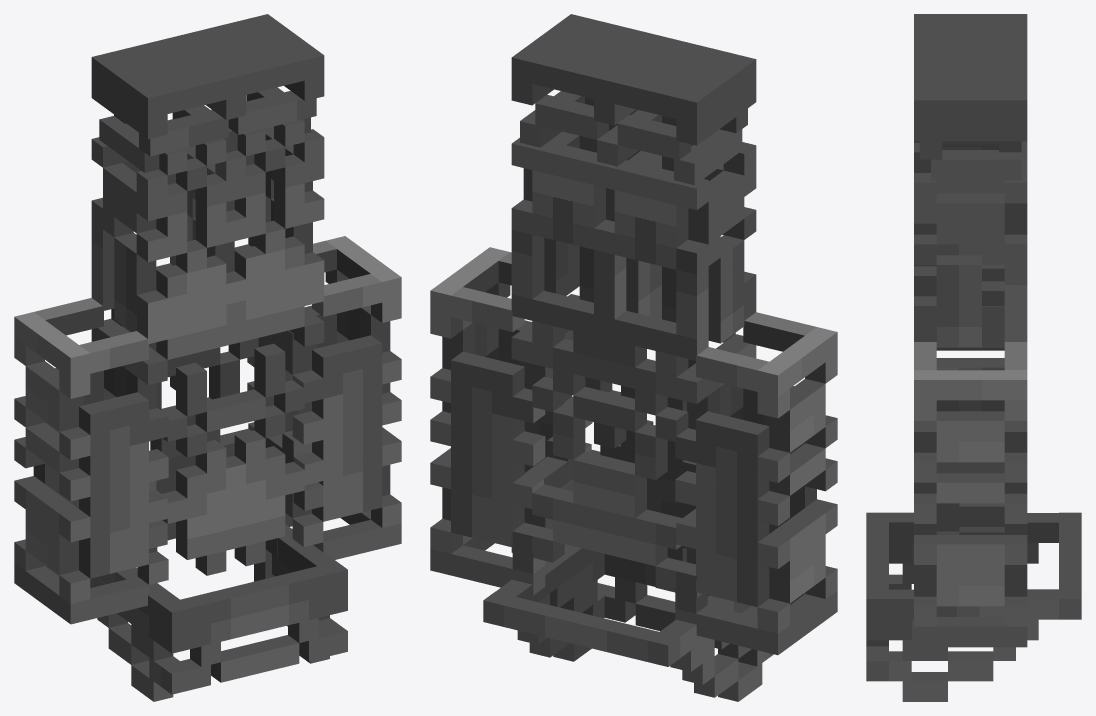
The model's file is exo_armor.obj.
3 renders of one model, left to right at view 1: azimuth 30°, elevation 25°; view 2: azimuth 150°, elevation 25°; view 3: azimuth 270°, elevation 25°, orthographic. The views are drawn at different scales.
Parts seen in each view (by area): view 1: RightArm, Body, LeftArm, RightLeg, Head, LeftLeg, RightBoot, LeftBoot; view 2: RightArm, Body, LeftArm, RightLeg, LeftLeg, Head, RightBoot, LeftBoot; view 3: LeftArm, LeftLeg, Head, LeftBoot, RightBoot, RightArm, Body.
Part boxes in pixels (left/top/right/bottom): RightArm: left=14, top=298, right=168, bottom=624; Body: left=91, top=307, right=324, bottom=575; LeftArm: left=247, top=236, right=401, bottom=559; RightLeg: left=91, top=110, right=245, bottom=359; Head: left=90, top=522, right=347, bottom=701; LeftLeg: left=170, top=87, right=324, bottom=345; RightBoot: left=91, top=33, right=245, bottom=139; LeftBoot: left=172, top=14, right=324, bottom=119; RightArm: left=675, top=312, right=837, bottom=655; Body: left=511, top=294, right=756, bottom=597; LeftArm: left=430, top=247, right=592, bottom=595; RightLeg: left=594, top=108, right=756, bottom=360; LeftLeg: left=511, top=91, right=661, bottom=340; Head: left=483, top=544, right=773, bottom=701; RightBoot: left=594, top=34, right=756, bottom=145; LeftBoot: left=511, top=14, right=673, bottom=122; LeftArm: left=914, top=342, right=1027, bottom=647; LeftLeg: left=914, top=141, right=1027, bottom=347; Head: left=866, top=512, right=1081, bottom=701; LeftBoot: left=914, top=52, right=1027, bottom=141; RightBoot: left=914, top=14, right=1027, bottom=61; RightArm: left=936, top=265, right=1004, bottom=473; Body: left=936, top=281, right=1004, bottom=534.
Size of the model in its own units: 16.9 by 29.25 by 9.5.
